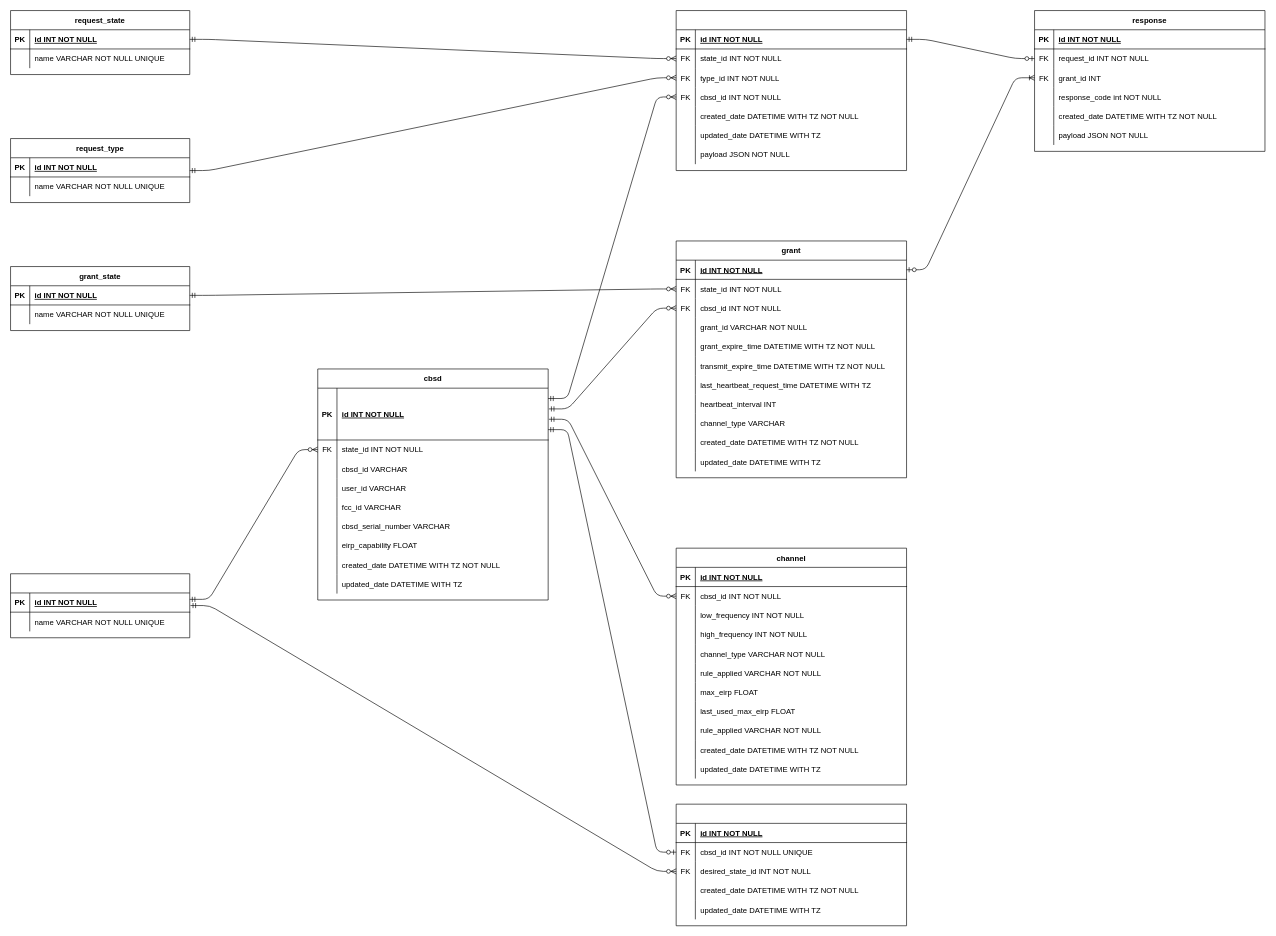
Image size: 1276x936. Some labels were removed from this diagram. Here are the shapes that lost their labels. From the top down, the box of each, then its label:
(676, 10, 907, 171): request
(10, 573, 190, 638): cbsd_state
(676, 804, 907, 926): active_mode_config
